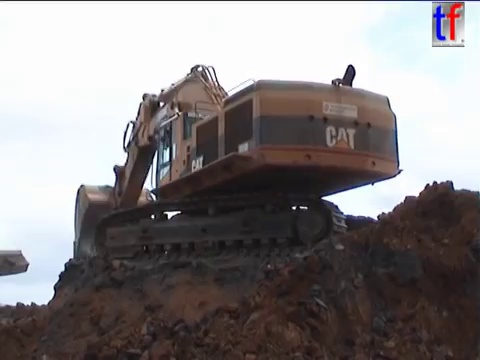excavator: (70, 61, 405, 268)
truck: (1, 248, 32, 278)
